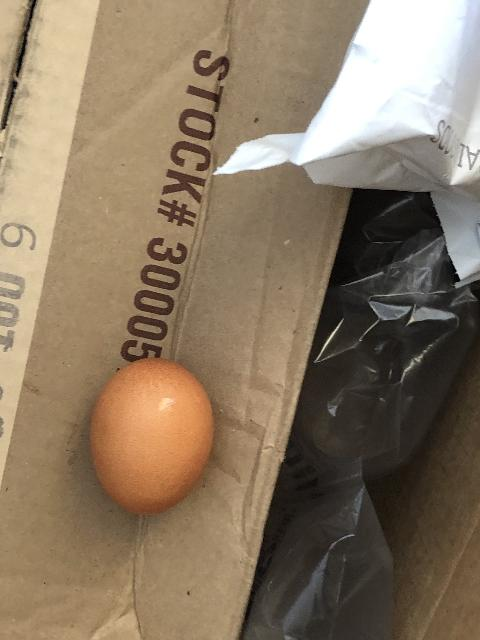Sano: (88, 355, 216, 515)
